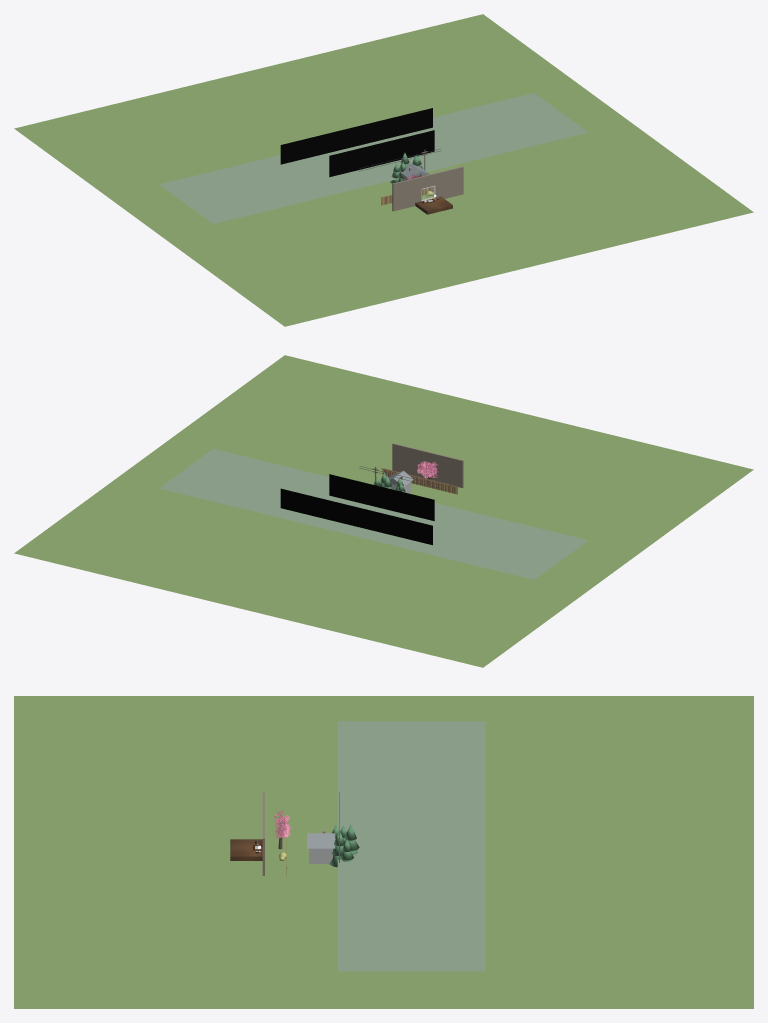
3 renders of one model, top to bottom at view 1: azimuth 30°, elevation 25°; view 2: azimuth 150°, elevation 25°; view 3: azimuth 270°, elevation 25°, orthographic. The views are drawn at different scales.
Visible parts, largest first — view 1: GEO_OutGround, GEO_OutHill, GEO_OutForestFar, GEO_OutForestNear, GEO_Wall; view 2: GEO_OutGround, GEO_OutHill, GEO_OutForestFar, GEO_OutForestNear, GEO_Wall; view 3: GEO_OutGround, GEO_OutHill, GEO_OutPines, GEO_Desk.
Part boxes in pixels (bbox=[...]): GEO_OutGround: bbox=[14, 14, 753, 326]; GEO_OutHill: bbox=[159, 93, 587, 223]; GEO_OutForestFar: bbox=[280, 108, 432, 164]; GEO_OutForestNear: bbox=[329, 130, 434, 177]; GEO_Wall: bbox=[392, 166, 463, 211]; GEO_OutGround: bbox=[14, 355, 753, 667]; GEO_OutHill: bbox=[159, 449, 587, 579]; GEO_OutForestFar: bbox=[280, 488, 432, 545]; GEO_OutForestNear: bbox=[329, 474, 434, 521]; GEO_Wall: bbox=[392, 443, 463, 487]; GEO_OutGround: bbox=[14, 696, 753, 1008]; GEO_OutHill: bbox=[337, 721, 485, 971]; GEO_OutPines: bbox=[329, 824, 359, 867]; GEO_Desk: bbox=[230, 839, 262, 860].
Size of the model in its own units: 40 by 2.8 by 40.
42 materials, 5 textured.
